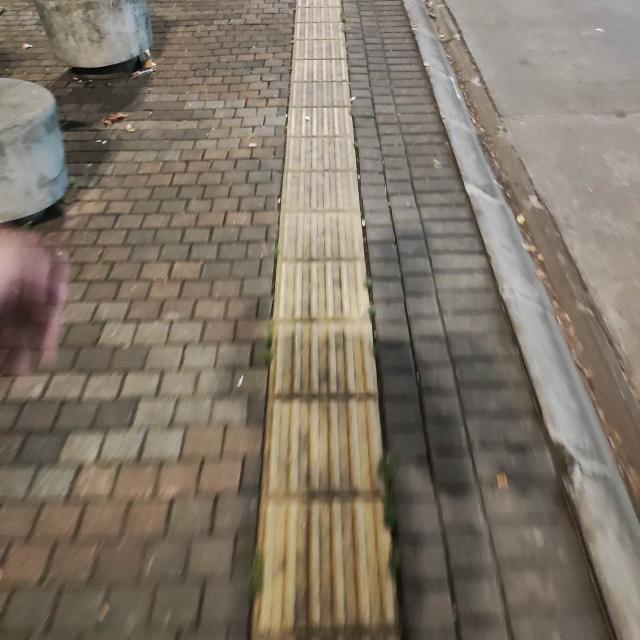lurus: (256, 0, 397, 640)
